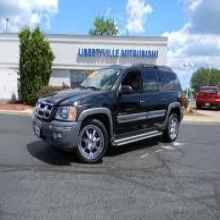no damage: (33, 64, 184, 164), (196, 79, 220, 113)
